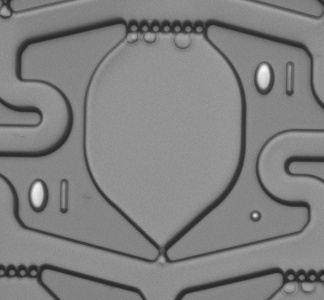AptNum: (245, 53, 303, 103)
Marker: (247, 207, 266, 226)
StNum: (20, 170, 80, 222)
